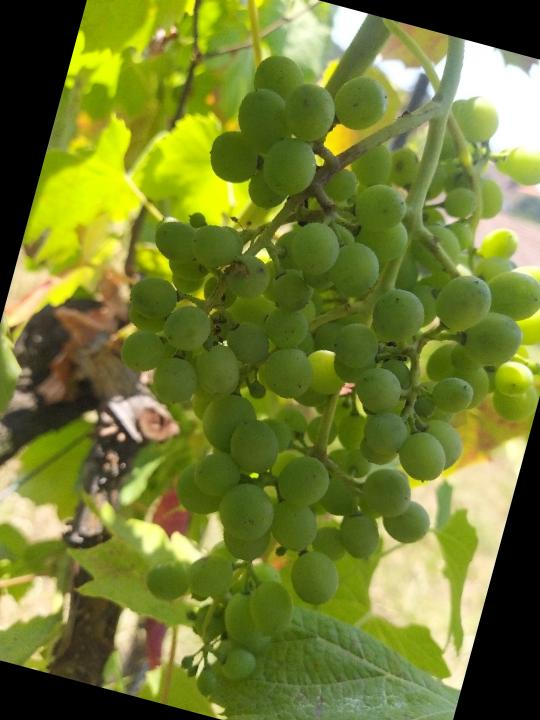grape: (29, 19, 540, 720)
